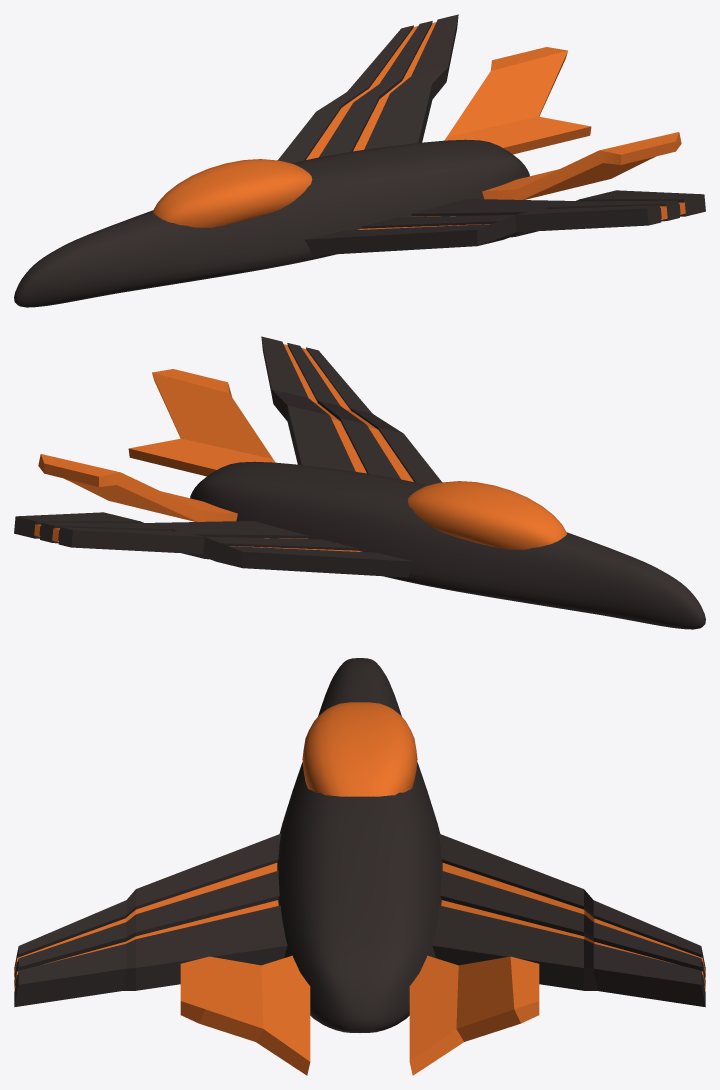
The model's file is Ambusher.fbx.
3 views of the same model, one above another, from view 1: azimuth 30°, elevation 25°; view 2: azimuth 150°, elevation 25°; view 3: azimuth 270°, elevation 25° (orthographic). The views are drawn at different scales.
Visible parts, largest first — view 1: Body, Wings, Back, Cockpit, WingStripes; view 2: Body, Wings, Back, Cockpit, WingStripes; view 3: Wings, Body, Back, Cockpit, WingStripes.
Part boxes in pixels (left/top/right/bottom): Body: left=14, top=139, right=529, bottom=307; Wings: left=277, top=14, right=705, bottom=255; Back: left=444, top=47, right=681, bottom=199; Cockpit: left=153, top=159, right=312, bottom=227; WingStripes: left=306, top=22, right=685, bottom=229; Body: left=190, top=461, right=705, bottom=629; Wings: left=14, top=336, right=442, bottom=577; Back: left=38, top=369, right=275, bottom=521; Cockpit: left=407, top=481, right=566, bottom=549; WingStripes: left=34, top=344, right=413, bottom=551; Wings: left=14, top=833, right=705, bottom=1007; Body: left=277, top=658, right=442, bottom=1032; Back: left=180, top=955, right=539, bottom=1075; Cockpit: left=302, top=702, right=417, bottom=796; WingStripes: left=14, top=863, right=705, bottom=989.
Bounding box in the file's own units: 311 × 40.82 × 220.
